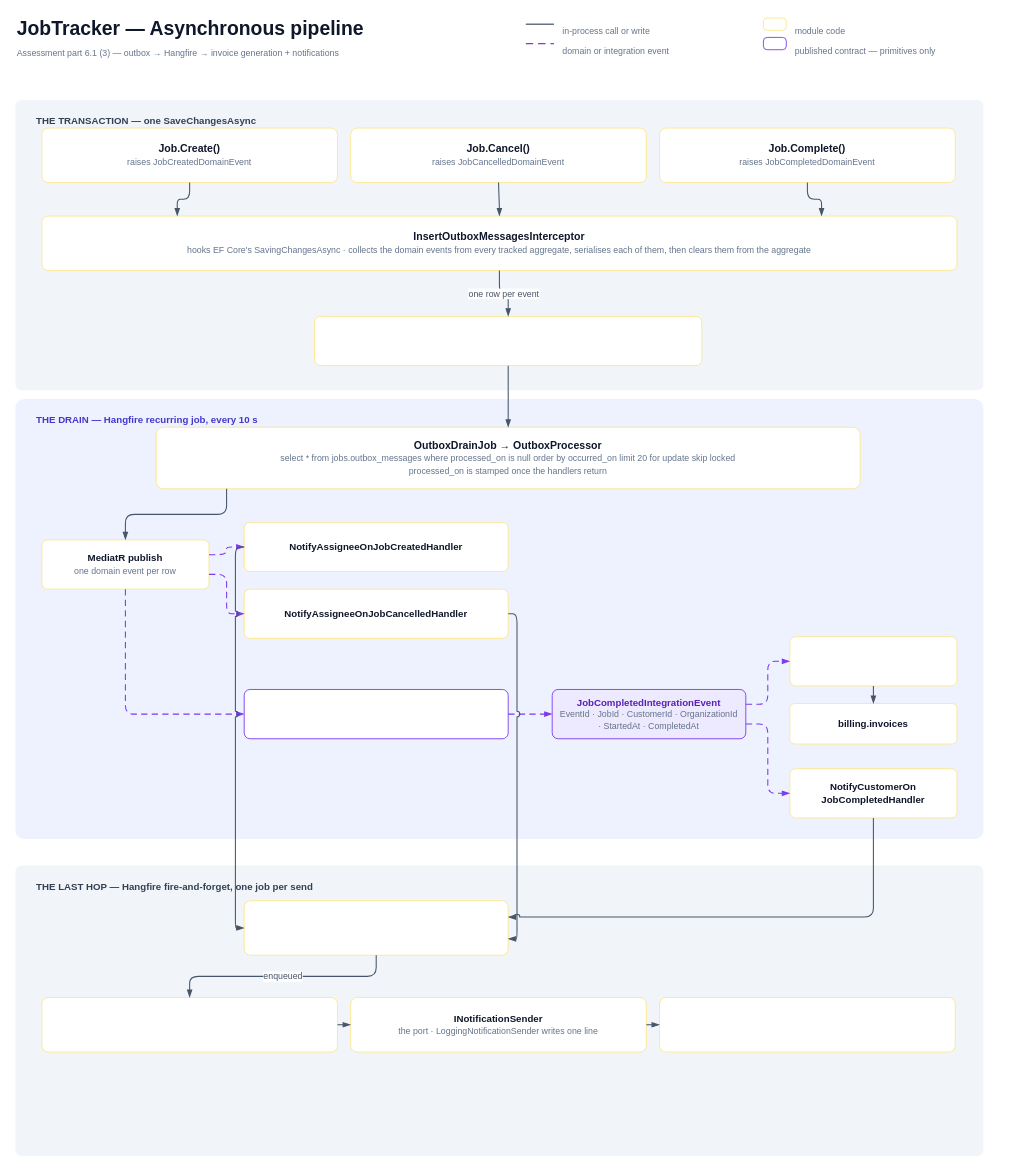
This 1019x1170 diagram has some shape labels left out. Here are the shapes that lost their labels. From the top down, the box of each, then its label:
(314, 315, 702, 366): jobs.outbox_messages id · type · content (jsonb) · occurred_on · processed_on
(789, 636, 957, 686): GenerateInvoiceOn JobCompletedHandler
(243, 689, 508, 739): PublishJobCompletedHandler translates through IEventBus
(243, 900, 508, 955): jobs.notifications one Pending row, written in the handler's transaction
(41, 997, 337, 1052): SendNotificationCommand returns early unless the row is still Pending
(659, 997, 955, 1052): MarkSent | MarkFailed Pending → Sent or Failed, refused from any other state
